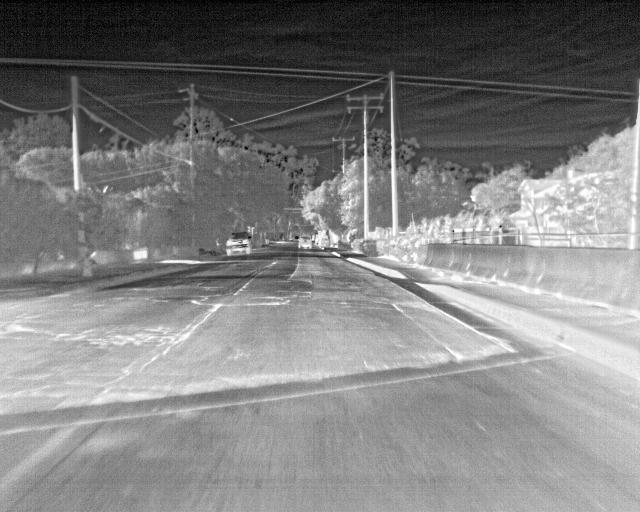car: (224, 233, 252, 258), (297, 233, 313, 250)
